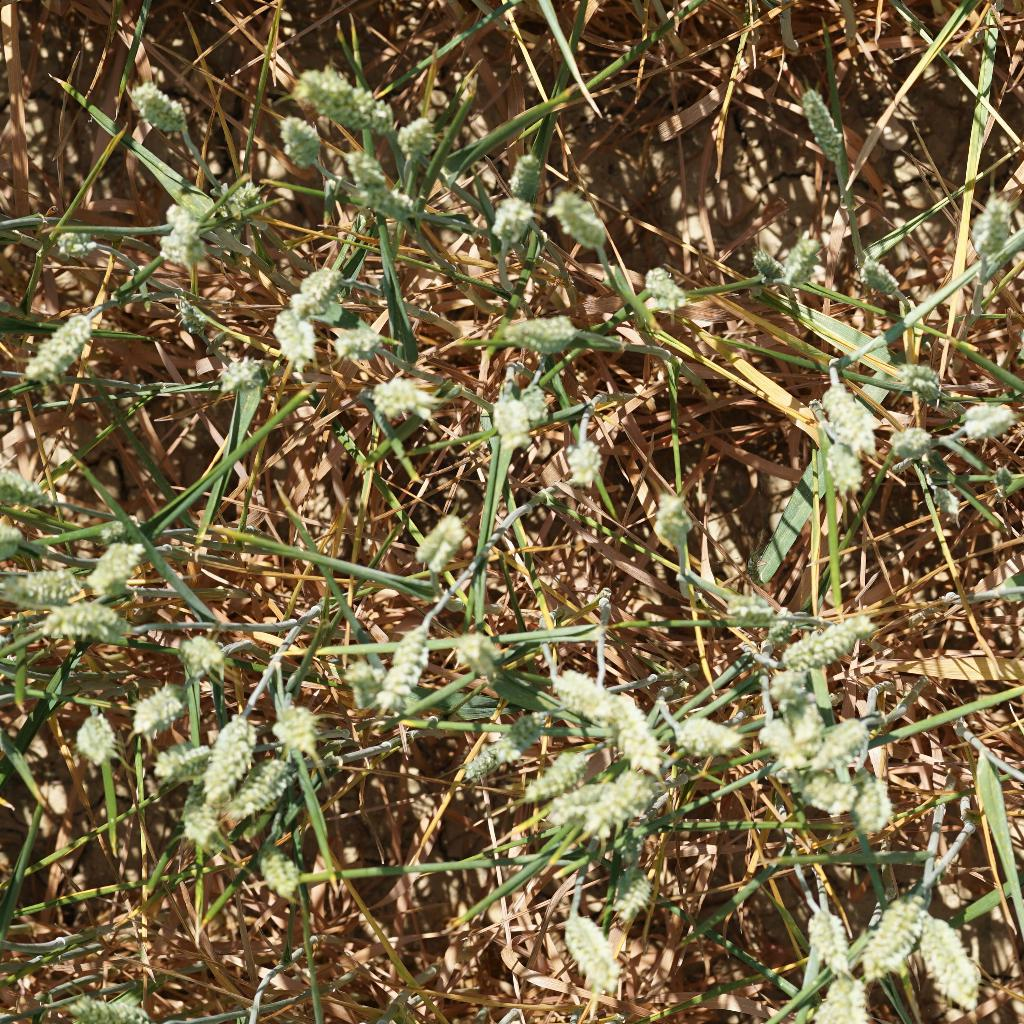0-0: (550, 908, 639, 1011), (289, 65, 406, 143), (909, 897, 985, 1012), (373, 623, 441, 724), (221, 747, 302, 830), (22, 304, 100, 390), (769, 617, 885, 673), (537, 651, 616, 728), (190, 714, 264, 795), (604, 688, 665, 785), (43, 601, 153, 654), (507, 736, 602, 795), (864, 894, 927, 982), (784, 750, 860, 822), (404, 503, 477, 576), (570, 765, 647, 834), (798, 90, 858, 172), (821, 377, 884, 451), (546, 193, 615, 258), (123, 79, 192, 144), (536, 778, 622, 830), (656, 710, 737, 762), (486, 387, 542, 462), (246, 834, 309, 900), (802, 902, 856, 979), (262, 698, 330, 759), (0, 554, 85, 602), (804, 713, 878, 766), (806, 425, 862, 494), (496, 309, 578, 355), (280, 264, 351, 317), (945, 395, 1019, 445), (88, 538, 152, 595), (124, 686, 189, 742), (645, 483, 698, 551), (800, 971, 868, 1024), (452, 621, 516, 676), (269, 307, 328, 366), (843, 772, 900, 832), (960, 189, 1012, 254), (160, 204, 209, 272), (62, 991, 162, 1024), (171, 632, 239, 680), (878, 408, 933, 467), (757, 709, 811, 769), (362, 376, 430, 423), (277, 114, 326, 178), (549, 430, 606, 485), (477, 193, 534, 247), (210, 180, 267, 234), (494, 709, 547, 767), (610, 860, 662, 919), (71, 709, 120, 769), (337, 651, 384, 713), (174, 792, 234, 837), (849, 254, 905, 302), (0, 472, 56, 520), (352, 179, 419, 219), (635, 266, 694, 311), (331, 319, 388, 365), (783, 697, 828, 755), (507, 157, 555, 208), (889, 359, 944, 403), (782, 233, 826, 288), (145, 746, 210, 783), (393, 112, 440, 163), (333, 146, 388, 189), (509, 380, 553, 431), (466, 737, 509, 787), (835, 976, 875, 1024), (765, 664, 813, 703), (216, 355, 260, 397), (47, 228, 103, 261), (719, 592, 775, 625), (747, 247, 790, 288), (760, 605, 797, 650), (174, 296, 209, 342), (927, 483, 963, 518), (742, 548, 763, 588), (989, 463, 1013, 491)
